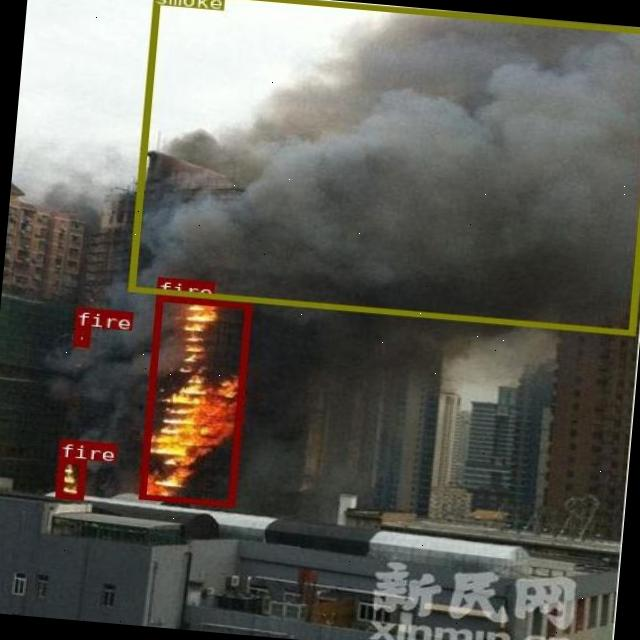fire: (138, 295, 249, 505), (54, 457, 85, 498), (72, 324, 90, 346)
smoke: (126, 0, 640, 334)
